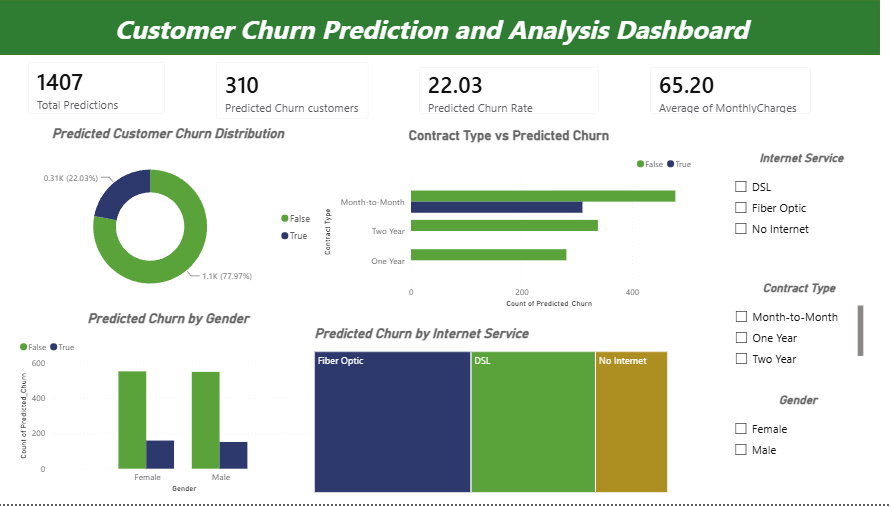

This screenshot's page, from the dashboard's own definition file:
{"tool":"powerbi","page":{"name":"customer churn prediction dashboard","canvas":[1280,720],"ordinal":0},"visuals":[{"type":"cardVisual","fields":{"Data":["CountNonNull(customer_churn_predictions.Predicted_Churn)"]},"box":[294.3,71.4,252.9,115.7],"z":0},{"type":"cardVisual","fields":{"Data":["CountNonNull(customer_churn_predictions.MonthlyCharges)"]},"box":[25.7,71.4,230,108.6],"z":1000},{"type":"cardVisual","fields":{"Data":["Avg(customer_churn_predictions.MonthlyCharges)"]},"box":[914.3,78.6,264.3,101.4],"z":2000},{"type":"cardVisual","fields":{"Data":["customer_churn_predictions.Predicted Churn Rate"]},"box":[584.3,78.6,291.4,101.4],"z":3000},{"type":"donutChart","title":"Predicted Customer Churn Distribution","fields":{"Category":["customer_churn_predictions.Predicted_Churn"],"Y":["CountNonNull(customer_churn_predictions.Predicted_Churn)"]},"box":[25.7,178.6,434.3,257.1],"z":4000},{"type":"clusteredBarChart","title":"Contract Type vs Predicted Churn","fields":{"Category":["customer_churn_predictions.Contract Type"],"Series":["customer_churn_predictions.Predicted_Churn"],"Y":["CountNonNull(customer_churn_predictions.Predicted_Churn)"]},"box":[460,181.4,540,262.9],"z":5000},{"type":"clusteredColumnChart","title":"Predicted Churn by Gender","fields":{"Category":["customer_churn_predictions.Gender"],"Series":["customer_churn_predictions.Predicted_Churn"],"Y":["CountNonNull(customer_churn_predictions.Predicted_Churn)"]},"box":[25.7,442.9,434.3,265.7],"z":6000},{"type":"listSlicer","fields":{"Values":["customer_churn_predictions.Contract Type"]},"box":[1047.1,401.4,194.3,124.3],"z":7000},{"type":"listSlicer","fields":{"Values":["customer_churn_predictions.Internet Service"]},"box":[1047.1,215.7,201.4,144.3],"z":8000},{"type":"listSlicer","fields":{"Values":["customer_churn_predictions.Gender"]},"box":[1047.1,561.4,191.4,124.3],"z":9000},{"type":"treemap","title":"Predicted Churn by Internet Service","fields":{"Group":["customer_churn_predictions.Internet Service"],"Values":["CountNonNull(customer_churn_predictions.Predicted_Churn)"]},"box":[447.1,464.3,514.3,244.3],"z":10000},{"type":"shape","box":[0,0,1260,78.6],"z":11000},{"type":"textbox","box":[42.9,10,1152.9,61.4],"z":12000}]}

Visuals, with their boxes in screenshot pixels (x1, y1, x2, y2), scaled from the page's 1280x720 canvas onto the 891x507 screenshot:
cardVisual - CountNonNull(customer_churn_predictions.Predicted_Churn): (left=205, top=50, right=381, bottom=132)
cardVisual - CountNonNull(customer_churn_predictions.MonthlyCharges): (left=18, top=50, right=178, bottom=127)
cardVisual - Avg(customer_churn_predictions.MonthlyCharges): (left=636, top=55, right=820, bottom=127)
cardVisual - customer_churn_predictions.Predicted Churn Rate: (left=407, top=55, right=610, bottom=127)
"Predicted Customer Churn Distribution" donutChart: (left=18, top=126, right=320, bottom=307)
"Contract Type vs Predicted Churn" clusteredBarChart: (left=320, top=128, right=696, bottom=313)
"Predicted Churn by Gender" clusteredColumnChart: (left=18, top=312, right=320, bottom=499)
listSlicer - customer_churn_predictions.Contract Type: (left=729, top=283, right=864, bottom=370)
listSlicer - customer_churn_predictions.Internet Service: (left=729, top=152, right=869, bottom=254)
listSlicer - customer_churn_predictions.Gender: (left=729, top=395, right=862, bottom=483)
"Predicted Churn by Internet Service" treemap: (left=311, top=327, right=669, bottom=499)
shape: (left=0, top=0, right=877, bottom=55)
textbox: (left=30, top=7, right=832, bottom=50)
